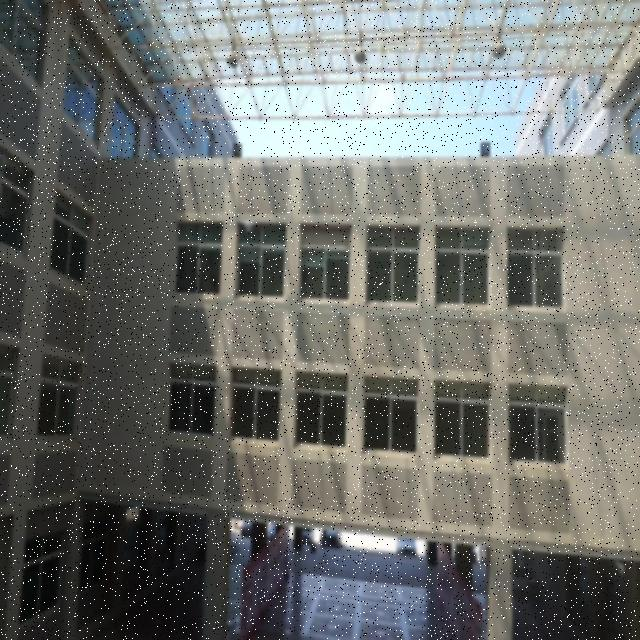UAV: (240, 218, 256, 232)
